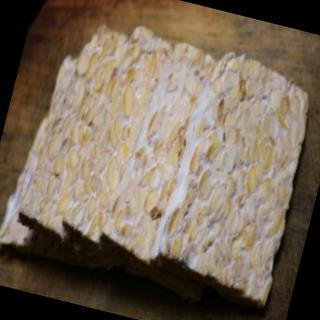Tempe: (1, 2, 320, 312)
